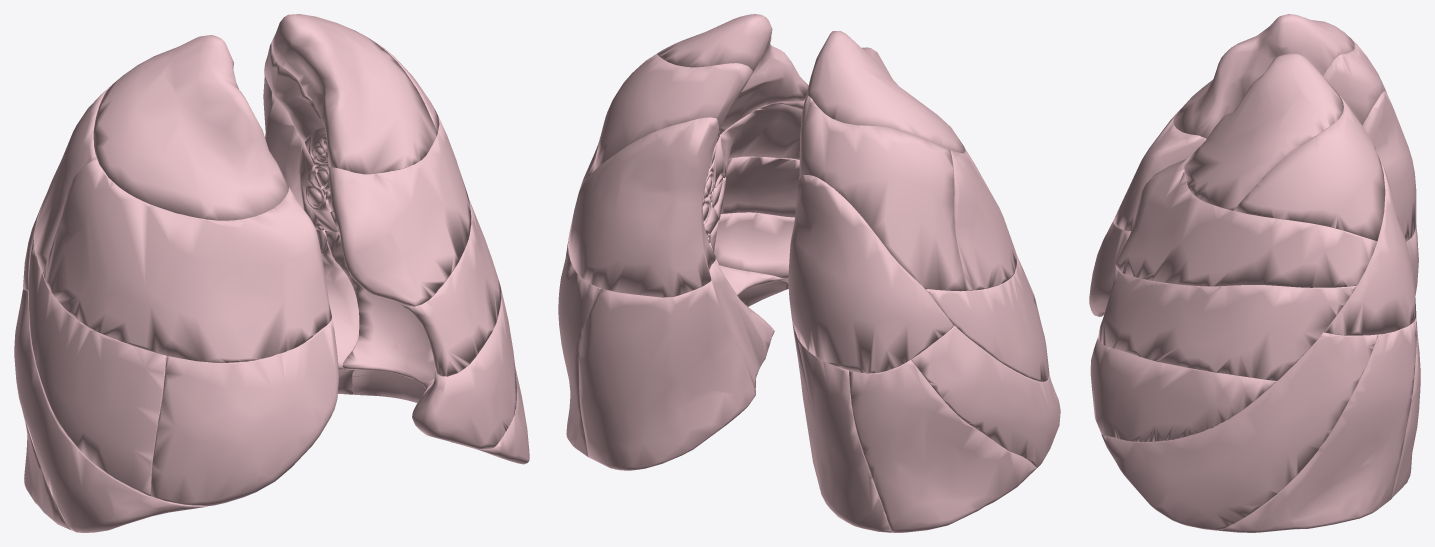
Rendered from lungs.glb.
3 renders of one model, left to right at view 1: azimuth 30°, elevation 25°; view 2: azimuth 150°, elevation 25°; view 3: azimuth 270°, elevation 25°, orthographic. The views are drawn at different scales.
Parts seen in each view (by area): view 1: lungs; view 2: lungs; view 3: lungs.
Boxes of the visible parts, x1=… form: lungs: x1=14, y1=14, x2=529, y2=532; lungs: x1=558, y1=14, x2=1060, y2=532; lungs: x1=1089, y1=14, x2=1420, y2=532.
Bounding box in the file's own units: 0.1484 × 0.1414 × 0.1051.
